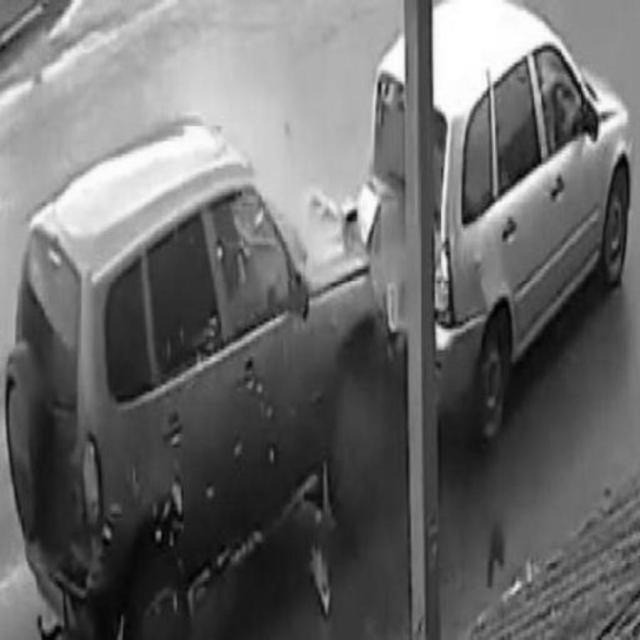accident: (7, 35, 631, 607)
